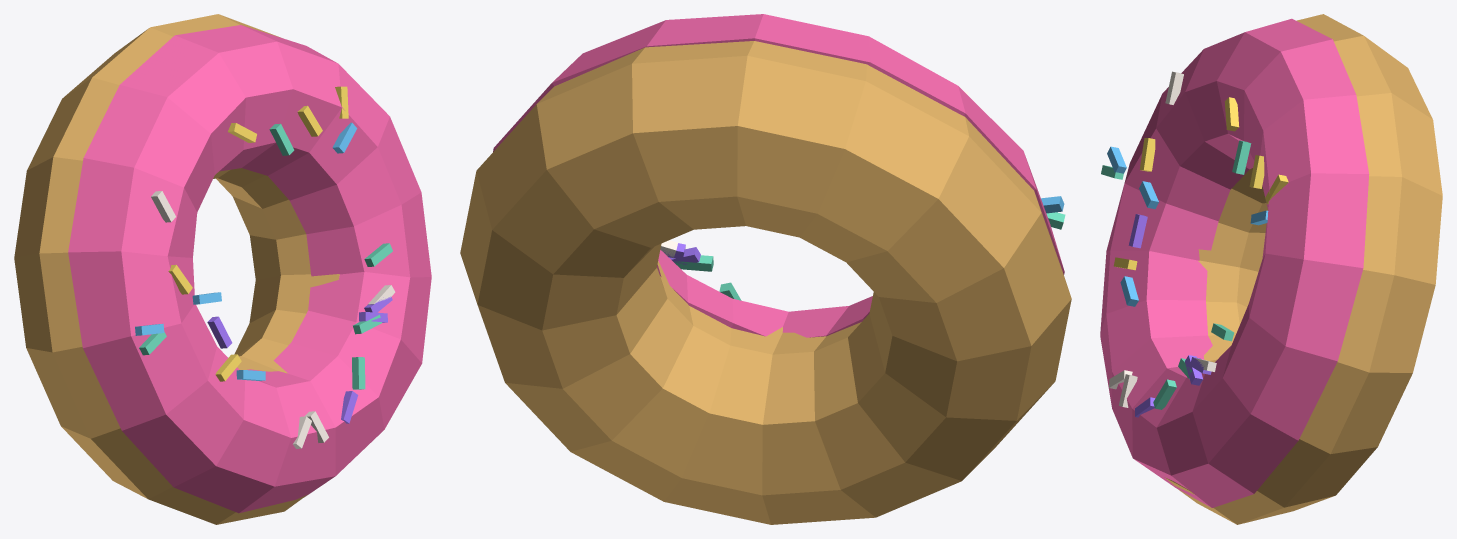
The model's file is GiantDonut.fbx.
3 views of the same model, side by side, from view 1: azimuth 30°, elevation 25°; view 2: azimuth 150°, elevation 25°; view 3: azimuth 270°, elevation 25° (orthographic). The views are drawn at different scales.
Parts seen in each view (by area): view 1: GiantDonut; view 2: GiantDonut; view 3: GiantDonut.
Part boxes in pixels (x1,y1,x2,y2): GiantDonut: (14,14,431,524); GiantDonut: (460,14,1071,524); GiantDonut: (1100,14,1442,524).
Size of the model in its own units: 526 by 527 by 370.
Materials: 1 (1 with a texture image).
